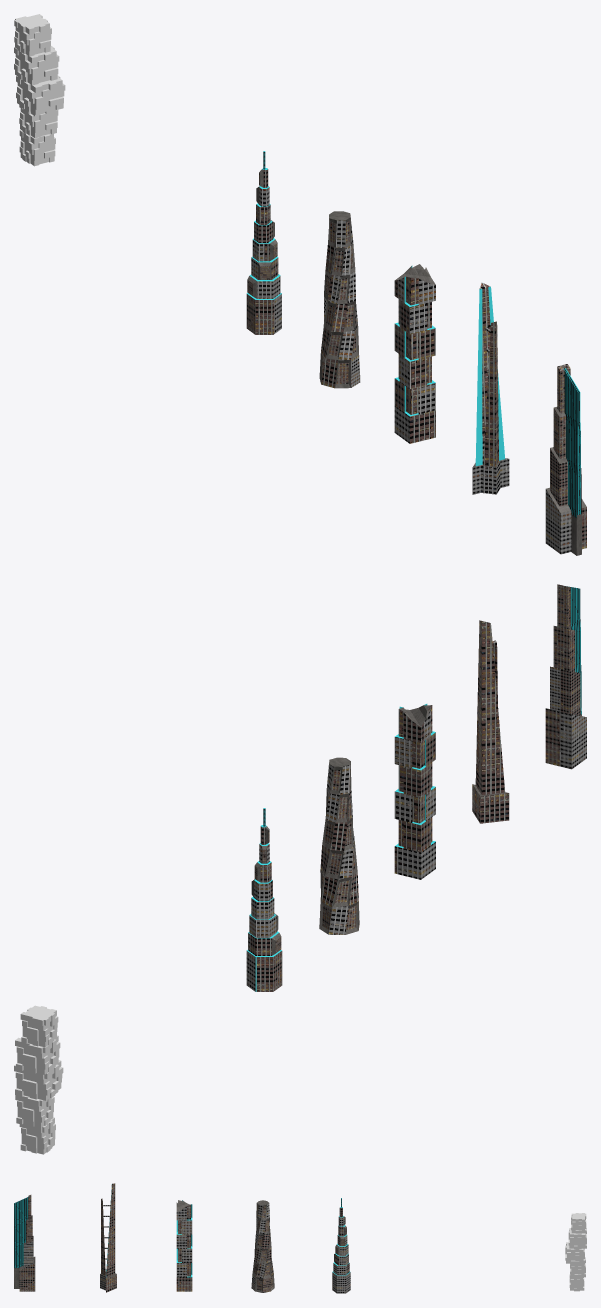
The model's file is SkyScapersDistant.fbx.
The picture shows the model from 3 angles, top to bottom: view 1: azimuth 30°, elevation 25°; view 2: azimuth 150°, elevation 25°; view 3: azimuth 270°, elevation 25°; orthographic projection. The views are drawn at different scales.
Visible parts, largest first — view 1: Cube.007, Cube, Cube.008, Cube.001, Cylinder, Cube.004, Cube.006, Cube.005, Cube.002, Cube.003; view 2: Cube.007, Cube, Cube.008, Cube.001, Cylinder, Cube.006, Cube.004, Cube.005, Cube.003, Cube.002; view 3: Cube, Cube.008, Cube.007, Cube.001, Cylinder, Cube.004, Cube.006, Cube.005, Cube.003, Cube.002.
Part boxes in pixels (<box>): Cube.007: <box>394,264,435,443</box>; Cube: <box>545,364,586,555</box>; Cube.008: <box>319,211,360,388</box>; Cube.001: <box>472,282,509,494</box>; Cylinder: <box>246,151,281,334</box>; Cube.004: <box>16,75,65,114</box>; Cube.006: <box>14,14,51,56</box>; Cube.005: <box>14,46,59,85</box>; Cube.002: <box>19,129,55,166</box>; Cube.003: <box>19,105,58,138</box>; Cube.007: <box>394,704,435,879</box>; Cube: <box>545,584,586,769</box>; Cube.008: <box>319,757,359,934</box>; Cube.001: <box>472,620,509,823</box>; Cylinder: <box>246,808,282,991</box>; Cube.006: <box>20,1005,58,1047</box>; Cube.004: <box>14,1060,63,1100</box>; Cube.005: <box>15,1035,60,1074</box>; Cube.003: <box>15,1095,54,1127</box>; Cube.002: <box>19,1117,55,1154</box>; Cube: <box>14,1195,35,1291</box>; Cube.008: <box>251,1200,274,1292</box>; Cube.007: <box>176,1200,192,1291</box>; Cube.001: <box>100,1183,116,1292</box>; Cylinder: <box>332,1198,350,1293</box>; Cube.004: <box>565,1242,584,1264</box>; Cube.006: <box>571,1213,586,1233</box>; Cube.005: <box>568,1228,586,1249</box>; Cube.003: <box>570,1257,585,1277</box>; Cube.002: <box>569,1274,584,1291</box>.
Size of the model in its own units: 294 by 1500 by 7301.
